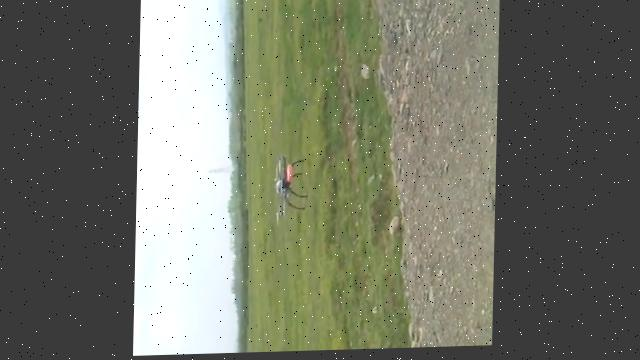drone: (270, 152, 307, 229)
